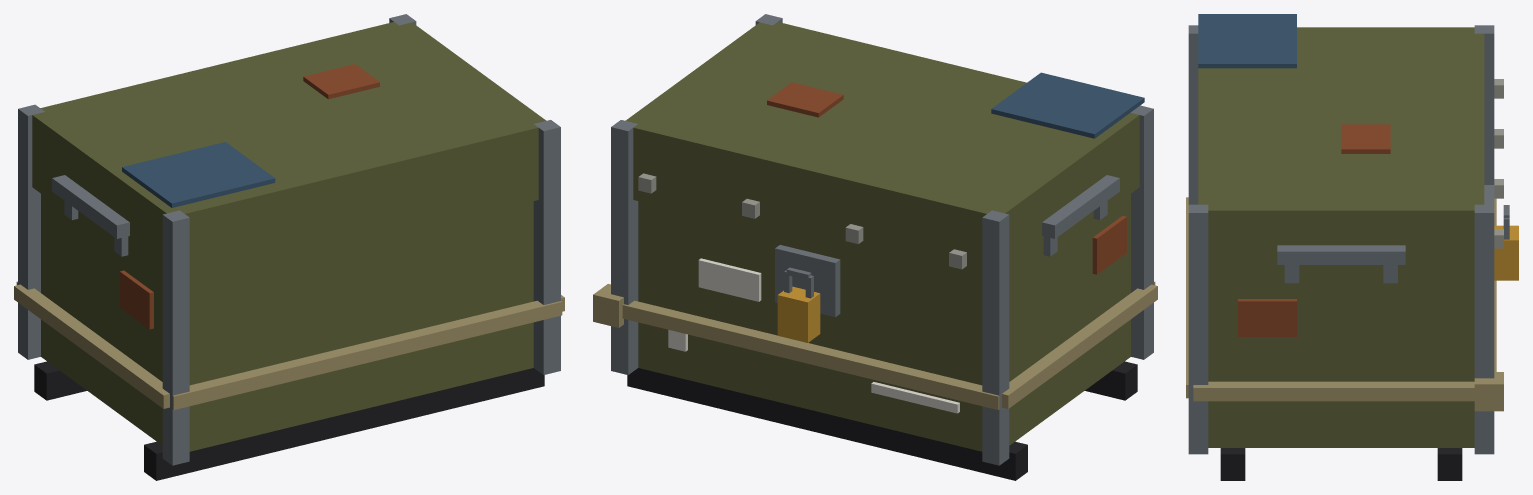
Rendered from safehouse_chest.glb.
The picture shows the model from 3 angles, left to right: view 1: azimuth 30°, elevation 25°; view 2: azimuth 150°, elevation 25°; view 3: azimuth 270°, elevation 25°; orthographic projection.
Visible parts, largest first — view 1: safehouse_chest; view 2: safehouse_chest; view 3: safehouse_chest.
Boxes of the visible parts, x1=… form: safehouse_chest: x1=14, y1=14, x2=564, y2=480; safehouse_chest: x1=593, y1=14, x2=1157, y2=480; safehouse_chest: x1=1186, y1=14, x2=1518, y2=480.
Size of what is drawn, in the model's own units: 0.955 by 0.63 by 0.675.
Materials: 3 (3 with a texture image).
